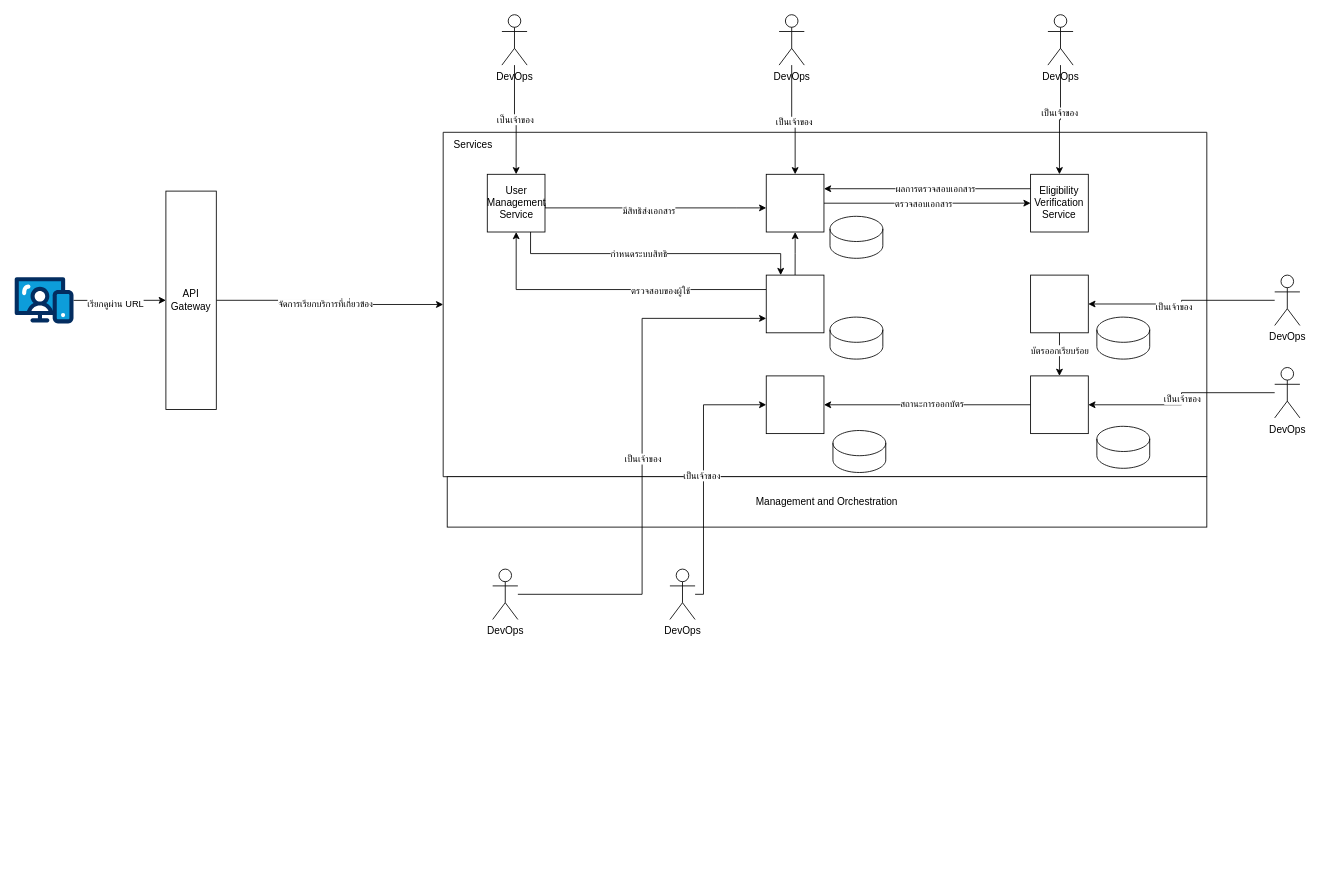
This 1320x886 diagram has some shape labels left out. Here are the shapes that lost their labels. From the top down, the box of each, then its label:
(765, 173, 824, 232): Document Submission Service
(765, 274, 824, 333): Security Service
(1030, 274, 1088, 333): Card Issuance Service
(765, 375, 824, 434): Notification Service
(1030, 375, 1088, 434): Status Tracking Service
